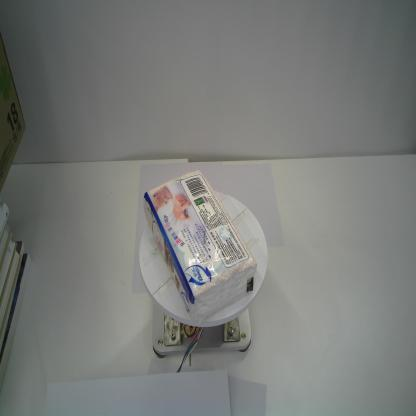Tissue: (142, 169, 259, 327)
